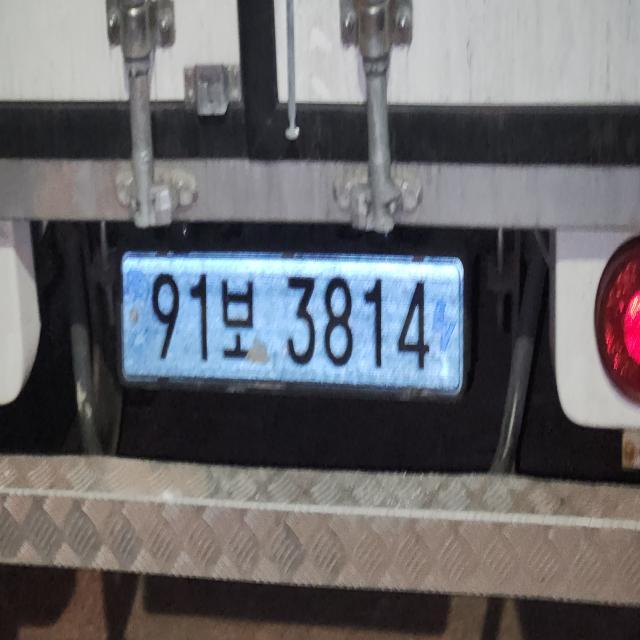car: (102, 225, 479, 430)
carev: (123, 265, 153, 370), (430, 278, 459, 374)
